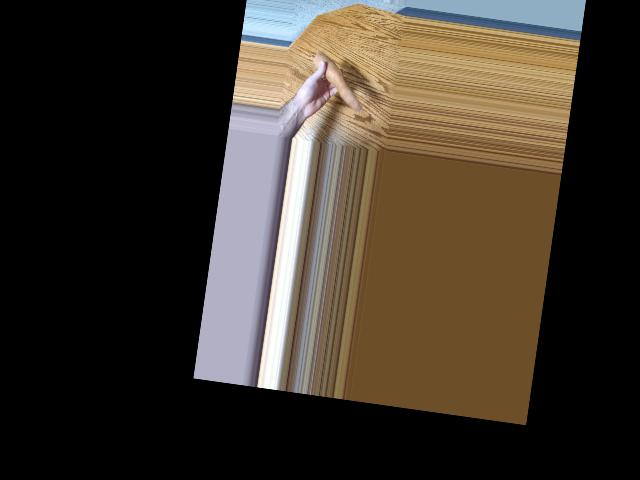sweet_potato: (306, 53, 367, 110)
